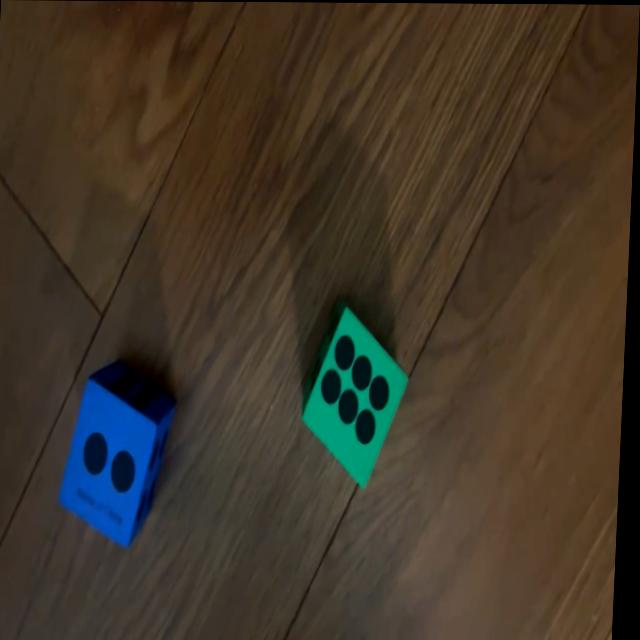cube: (64, 356, 181, 546), (300, 309, 414, 489)
